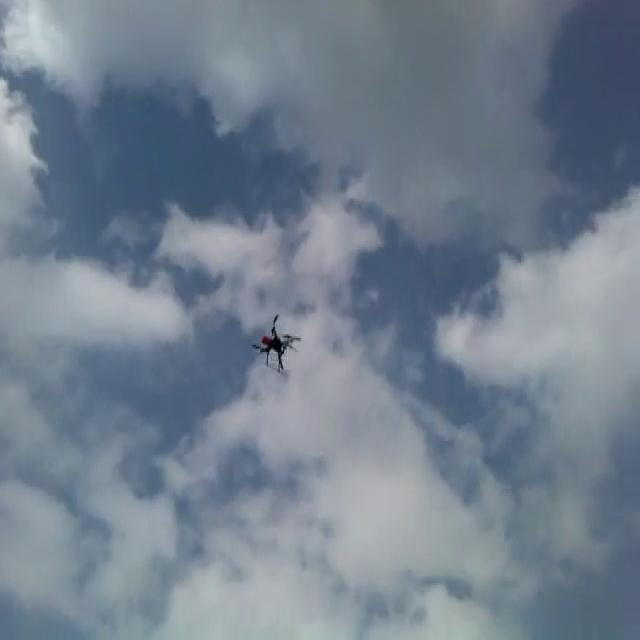drone: (249, 313, 301, 371)
